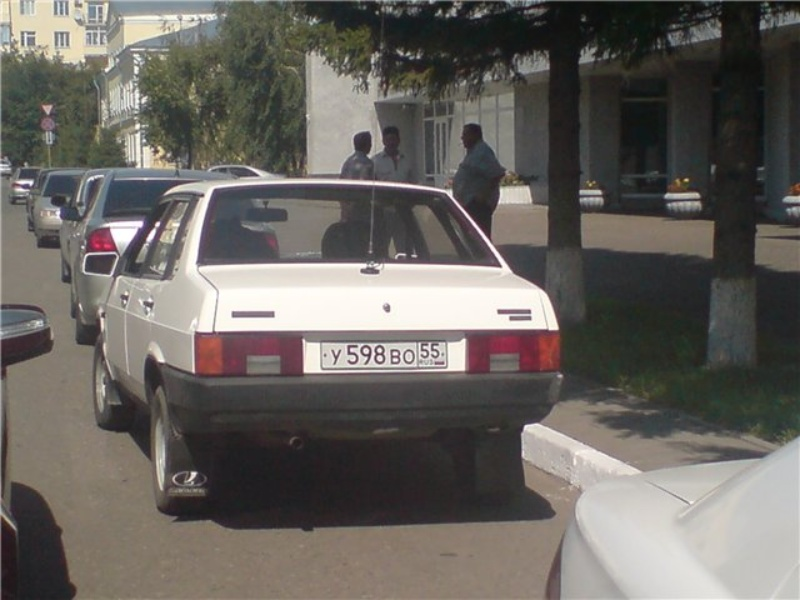car: (92, 178, 562, 515), (69, 168, 234, 345), (33, 171, 80, 244)
person: (452, 123, 505, 239), (375, 127, 412, 185), (339, 131, 375, 181)
plate: (321, 341, 447, 367)
